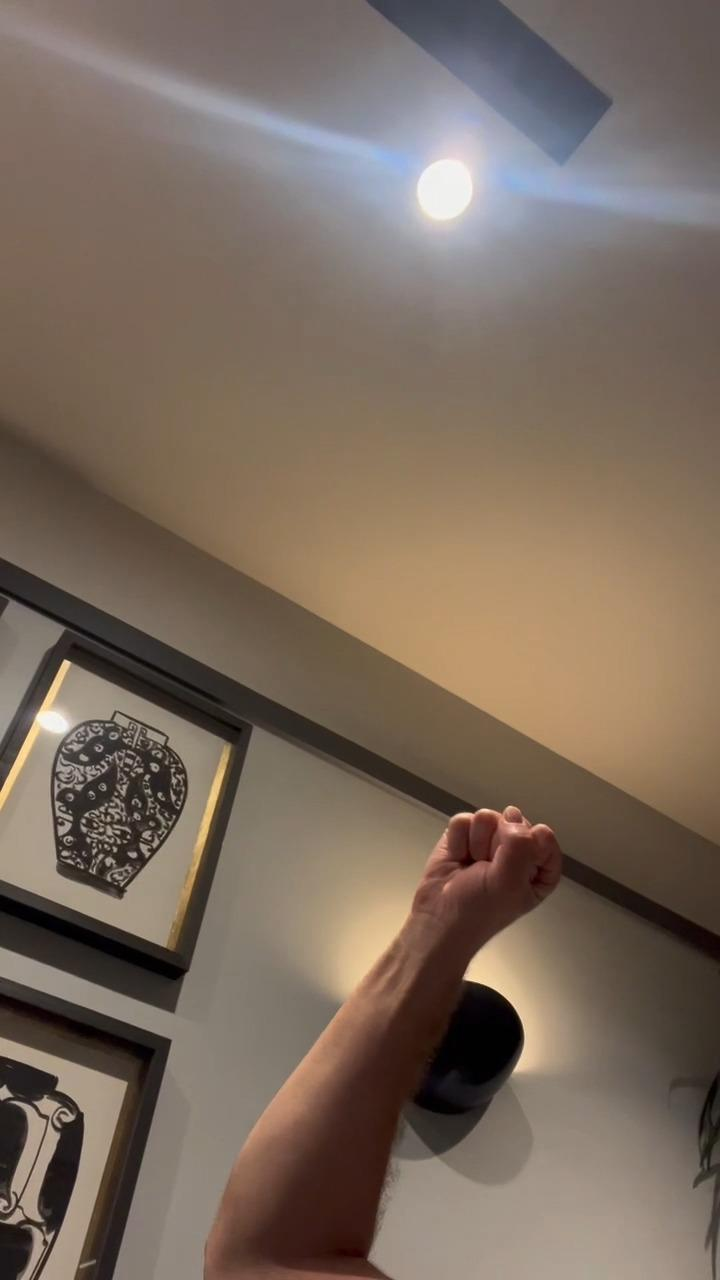Rock: (412, 804, 568, 931)
